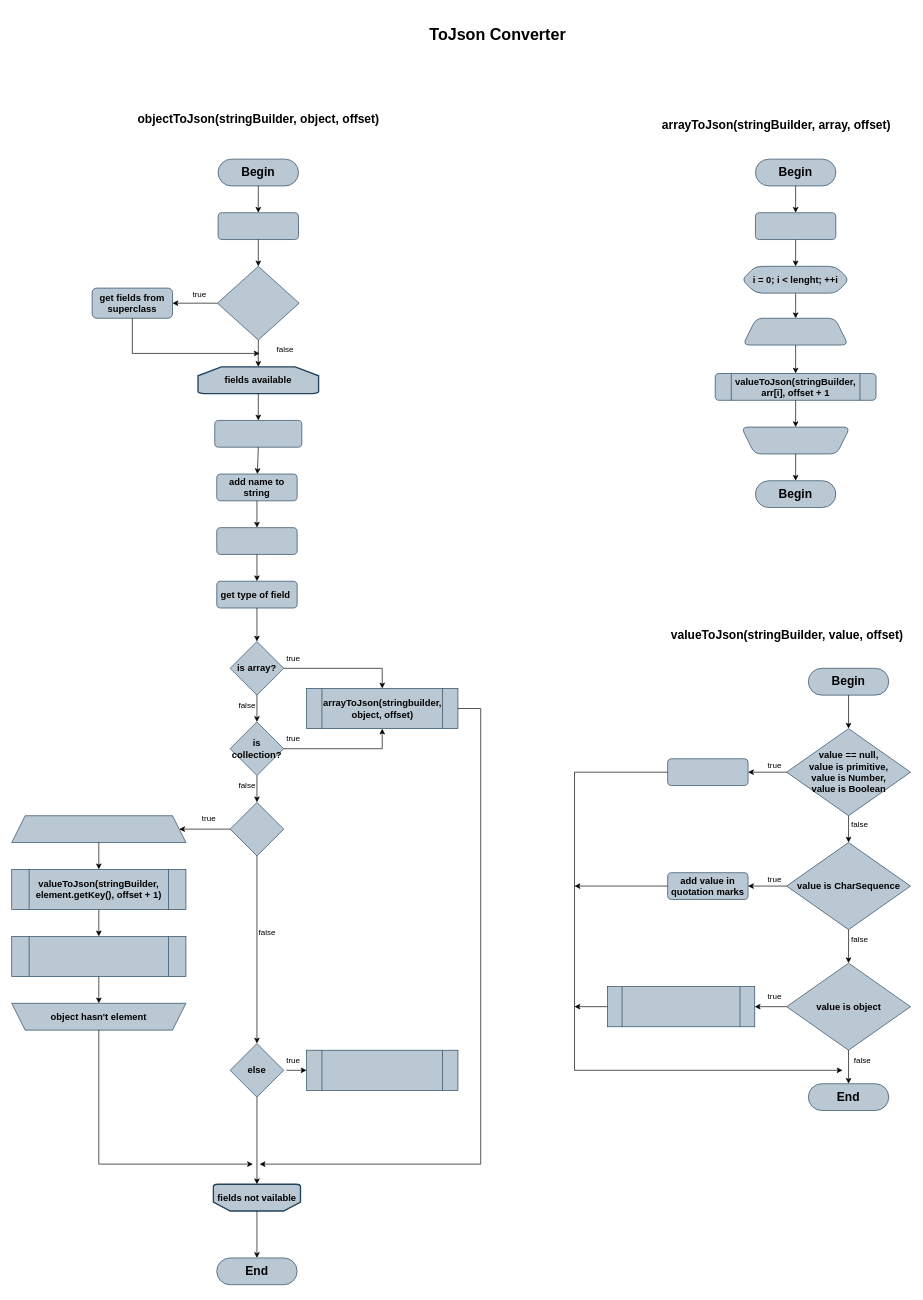
The diagram is 923 pixels wide and 1300 high, and some of its shapes have lost their labels. Here are the shapes that lost their labels. From the top down, the box of each, then its label:
(217, 212, 298, 240): get fields from object
(755, 212, 836, 240): get lenght of array
(217, 266, 299, 340): is superclass available
(214, 420, 302, 447): get name from field
(216, 527, 297, 554): get value of field
(667, 758, 748, 786): add value to string
(11, 815, 186, 843): object has element
(229, 802, 284, 856): is map?
(11, 936, 186, 977): valueToJson(stringBuilder, element.getValue(), offset + 1)
(607, 986, 755, 1027): objectToJson(stringBuilder, value, offset + 1)
(306, 1050, 458, 1090): valueToJson(stringbuilder, object, offset)
